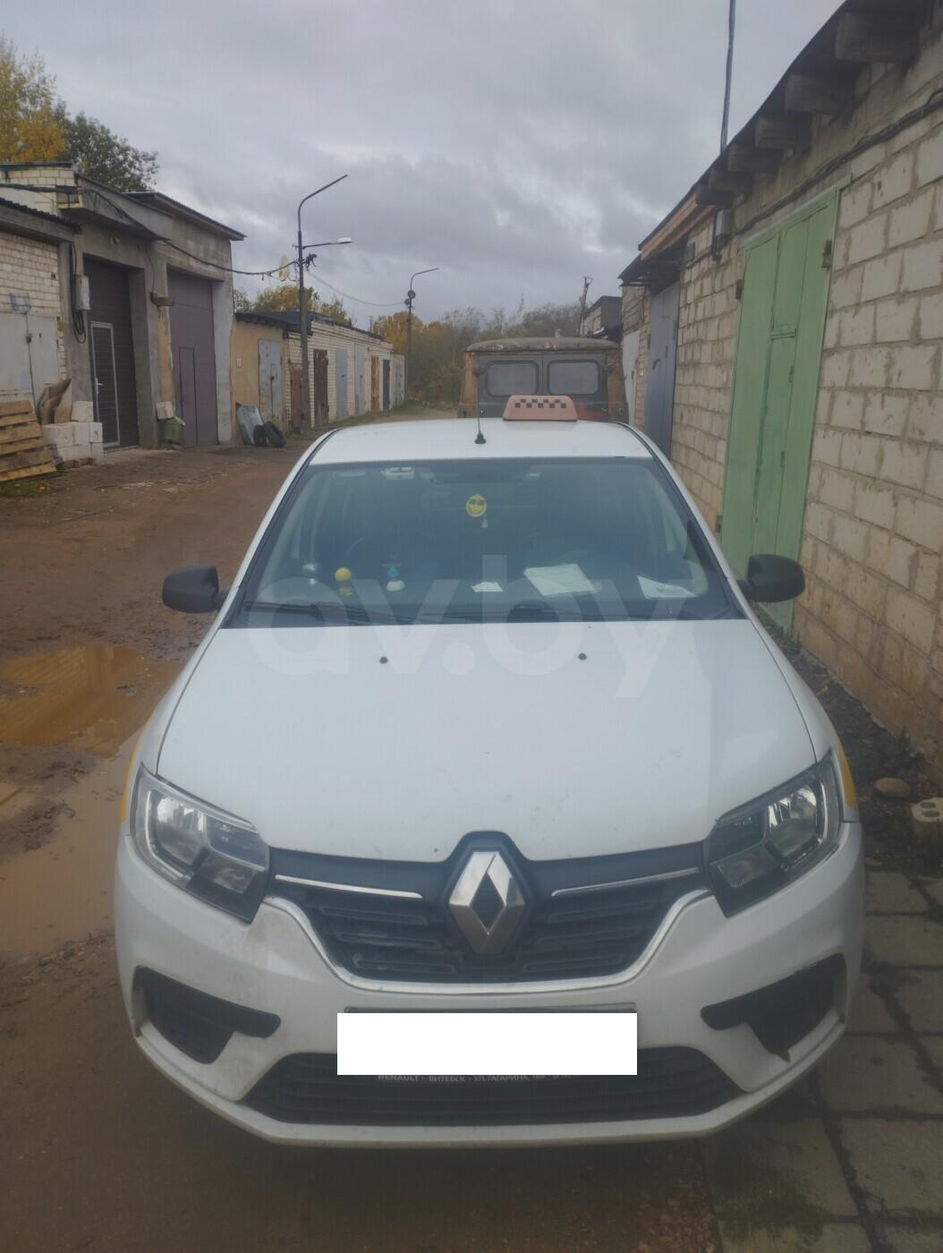Logan_2013-2018: (116, 408, 870, 1183)
